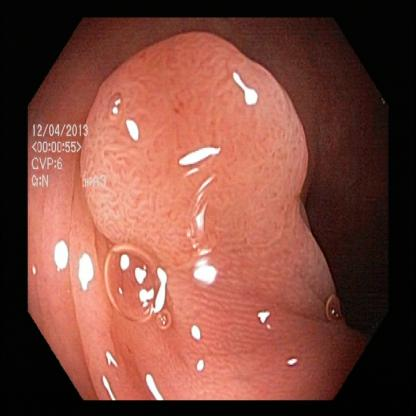Labels: (27, 115, 117, 197)
Polyps: (83, 31, 325, 249)
